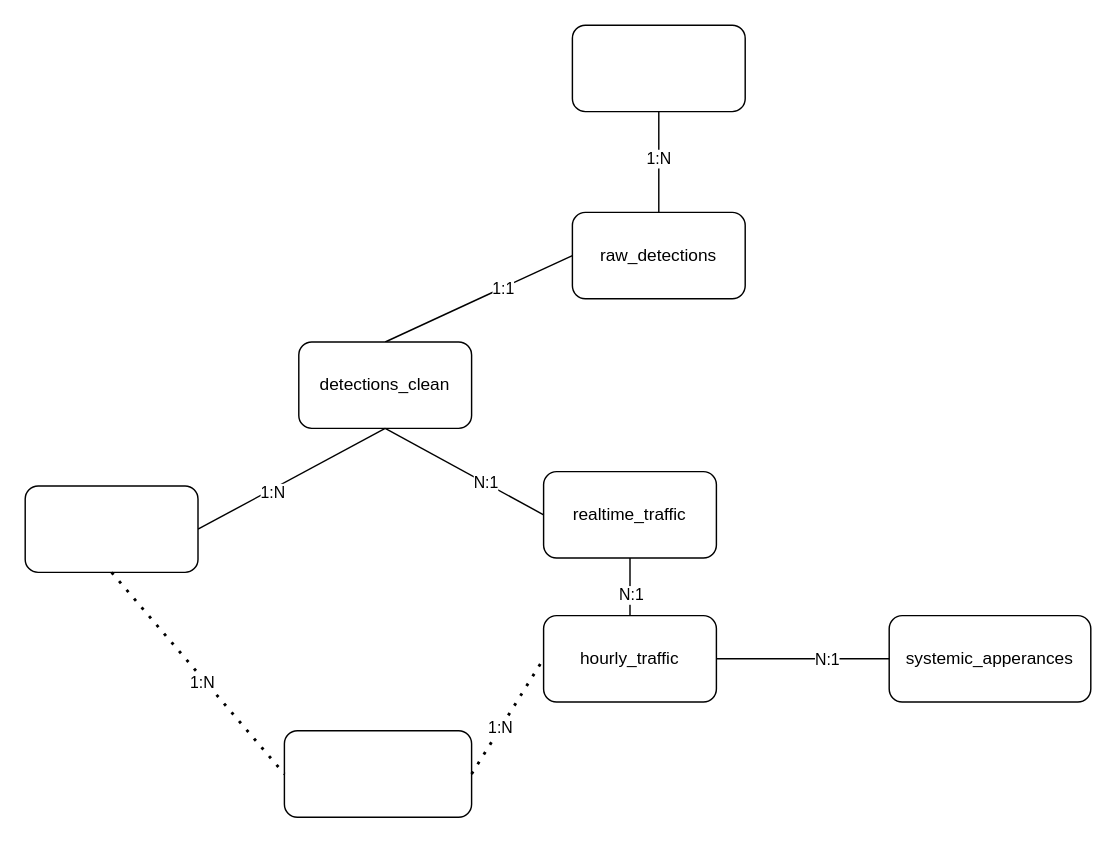
This 1116x842 diagram has some shape labels left out. Here are the shapes that lost their labels. From the top down, the box of each, then its label:
(571, 24, 745, 112): YOLO
(24, 485, 198, 572): proximity_events
(283, 729, 472, 817): dispatcher_predictions
